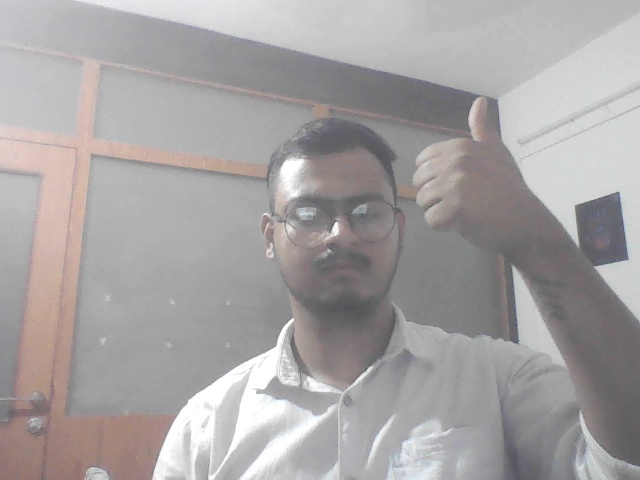Good: (405, 89, 519, 260)
